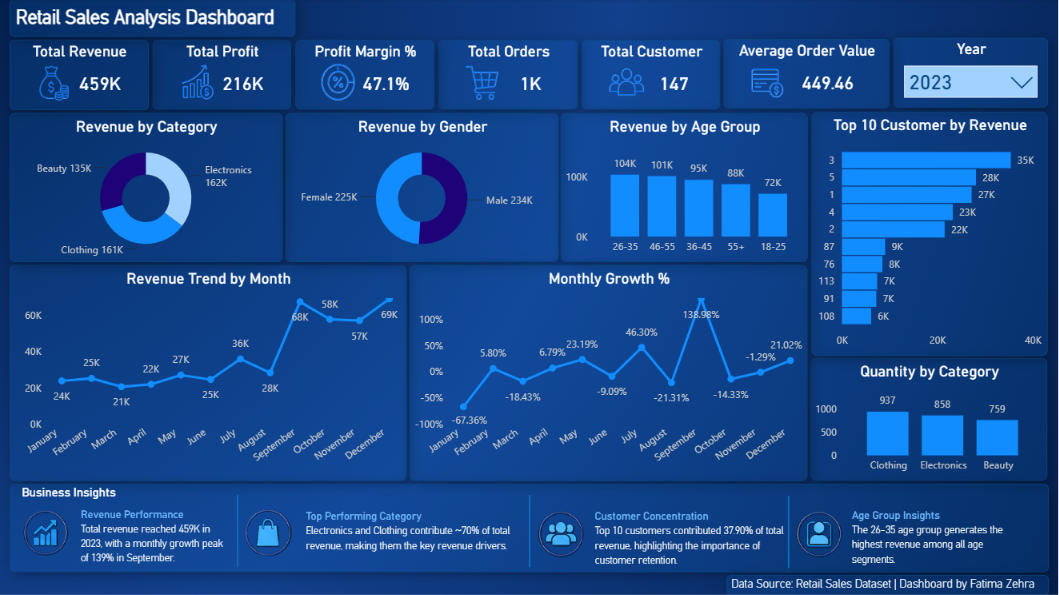

The dashboard page shown, as its layout file describes it:
{"tool":"powerbi","page":{"name":"Page 1","canvas":[1280,720],"ordinal":0},"visuals":[{"type":"cardVisual","title":"Total Orders","fields":{"Data":["SQL - Retail Sales Analysis_utf.Total Order"]},"box":[531.7,49.7,167.9,84.3],"z":0},{"type":"group","id":"g1","title":"Group 1","box":[14.5,581.5,1253.5,109.8],"z":0,"group":"g3"},{"type":"cardVisual","title":"Total Customer","fields":{"Data":["SQL - Retail Sales Analysis_utf.Total Customer"]},"box":[704,49.7,167.5,83.8],"z":1000},{"type":"group","id":"g2","title":"Group 2","box":[273.9,597.9,695.7,88.5],"z":1000,"group":"g3"},{"type":"cardVisual","title":"Average Order Value","fields":{"Data":["SQL - Retail Sales Analysis_utf.Average Order Value"]},"box":[876,48.3,200,84.3],"z":2000},{"type":"cardVisual","title":"Total Profit","fields":{"Data":["SQL - Retail Sales Analysis_utf.Total Profit"]},"box":[187.4,49.7,167.1,84.3],"z":3000},{"type":"cardVisual","title":"Total Revenue","fields":{"Data":["SQL - Retail Sales Analysis_utf.Total Revenue"]},"box":[14.5,49.5,167.7,84.5],"z":4000},{"type":"cardVisual","title":"Profit Margin %","fields":{"Data":["SQL - Retail Sales Analysis_utf.Profit Margin"]},"box":[359.5,49.7,167.1,84.3],"z":5000},{"type":"lineChart","title":"Revenue Trend by Month ","fields":{"Y":["SQL - Retail Sales Analysis_utf.Total Revenue"],"Category":["Calendar.Month Name"]},"box":[14.5,320.9,479,260.6],"z":6000},{"type":"donutChart","title":"Revenue by Category","fields":{"Category":["SQL - Retail Sales Analysis_utf.category"],"Y":["SQL - Retail Sales Analysis_utf.Total Revenue"]},"box":[14.5,137.5,329.4,179.8],"z":7000},{"type":"donutChart","title":"Revenue by Gender","fields":{"Y":["SQL - Retail Sales Analysis_utf.Total Revenue"],"Category":["SQL - Retail Sales Analysis_utf.gender"]},"box":[347.5,137.5,329.4,179.8],"z":8000},{"type":"slicer","title":"Year","fields":{"Values":["Calendar.Year"]},"box":[1081,46.8,186.4,84.3],"z":9000},{"type":"textbox","box":[14.5,0,345,45.8],"z":10000},{"type":"clusteredColumnChart","title":"Revenue by Age Group","fields":{"Category":["Retail Sales.Age Group"],"Y":["Retail Sales.Total Revenue"]},"box":[678.8,137,298.8,180],"z":11000},{"type":"clusteredColumnChart","title":"Quantity by Category ","fields":{"Category":["Retail Sales.category"],"Y":["Sum(Retail Sales.quantity )"]},"box":[980.8,433.1,285.9,148.4],"z":12000},{"type":"lineChart","title":"Monthly Growth % ","fields":{"Category":["Calendar.Month Name"],"Y":["Retail Sales.Revenue Growth %"]},"box":[496.6,321.3,480.2,260.6],"z":13000},{"type":"clusteredBarChart","title":"Top 10 Customer by Revenue","fields":{"Category":["Retail Sales.customer_id"],"Y":["Retail Sales.Total Revenue"]},"box":[982,136.6,284.7,294.4],"z":14000},{"type":"group","id":"g3","title":"Group 3","box":[14.5,581.5,1253.5,109.8],"z":15000},{"type":"shape","box":[14.5,585,1253.5,106.3],"z":15000,"group":"g1"},{"type":"textbox","box":[24.3,581.5,302.9,40.1],"z":16000,"group":"g1"},{"type":"textbox","box":[879.5,694.9,388.5,25.3],"z":16000},{"type":"textbox","box":[95.7,606.4,191.4,81.6],"z":17000,"group":"g1"},{"type":"textbox","box":[367.2,609.2,285.7,81.6],"z":18000,"group":"g1"},{"type":"textbox","box":[714.9,609.8,238.9,80.8],"z":19000,"group":"g1"},{"type":"textbox","box":[1025.7,607.8,227.1,83],"z":20000,"group":"g1"},{"type":"shape","box":[273.9,597.9,31.4,87.1],"z":21000,"group":"g2"},{"type":"shape","box":[626.8,597.9,31.4,87.1],"z":22000,"group":"g2"},{"type":"shape","box":[938.2,599.3,31.4,87.1],"z":23000,"group":"g2"},{"type":"image","box":[15.7,605,81.4,81.6],"z":24000,"group":"g1"},{"type":"image","box":[290,610.5,74.3,71.9],"z":25000,"group":"g1"},{"type":"image","box":[642.9,609.2,74.3,71.9],"z":26000,"group":"g1"},{"type":"image","box":[954.3,611.9,74.3,71.9],"z":27000,"group":"g1"}]}

Visuals, with their boxes in screenshot pixels (x1, y1, x2, y2), scaled from the page's 1280x720 canvas onto the 1059x595 screenshot:
"Total Orders" cardVisual: (440, 41, 579, 111)
"Group 1" group: (12, 481, 1049, 571)
"Total Customer" cardVisual: (582, 41, 721, 110)
"Group 2" group: (227, 494, 802, 567)
"Average Order Value" cardVisual: (725, 40, 890, 110)
"Total Profit" cardVisual: (155, 41, 293, 111)
"Total Revenue" cardVisual: (12, 41, 151, 111)
"Profit Margin %" cardVisual: (297, 41, 436, 111)
"Revenue Trend by Month " lineChart: (12, 265, 408, 481)
"Revenue by Category" donutChart: (12, 114, 285, 262)
"Revenue by Gender" donutChart: (288, 114, 560, 262)
"Year" slicer: (894, 39, 1049, 108)
textbox: (12, 0, 297, 38)
"Revenue by Age Group" clusteredColumnChart: (562, 113, 809, 262)
"Quantity by Category " clusteredColumnChart: (811, 358, 1048, 481)
"Monthly Growth % " lineChart: (411, 266, 808, 481)
"Top 10 Customer by Revenue" clusteredBarChart: (812, 113, 1048, 356)
"Group 3" group: (12, 481, 1049, 571)
shape: (12, 483, 1049, 571)
textbox: (20, 481, 271, 514)
textbox: (728, 574, 1049, 594)
textbox: (79, 501, 238, 569)
textbox: (304, 503, 540, 571)
textbox: (591, 504, 789, 571)
textbox: (849, 502, 1036, 571)
shape: (227, 494, 253, 566)
shape: (519, 494, 545, 566)
shape: (776, 495, 802, 567)
image: (13, 500, 80, 567)
image: (240, 505, 301, 564)
image: (532, 503, 593, 563)
image: (790, 506, 851, 565)
